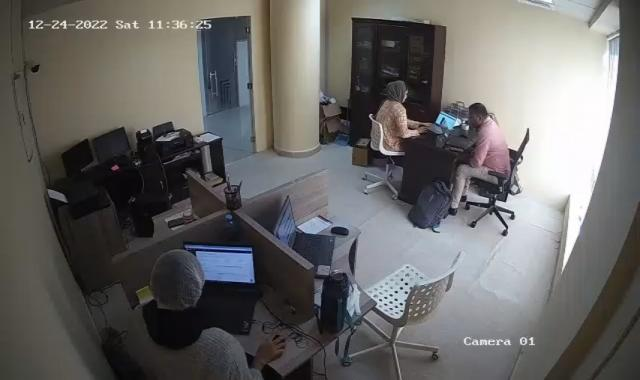hairnet: (149, 244, 205, 317)
no_hairnet: (386, 77, 409, 105), (468, 102, 488, 128)
